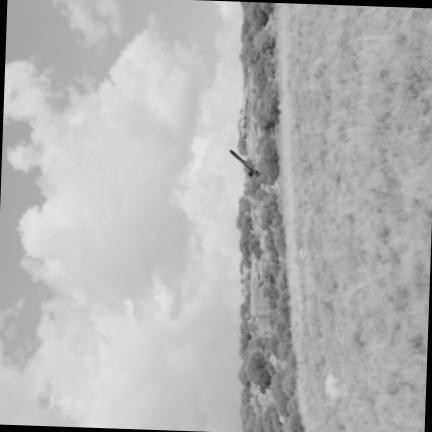Shahed: (230, 150, 259, 176)
